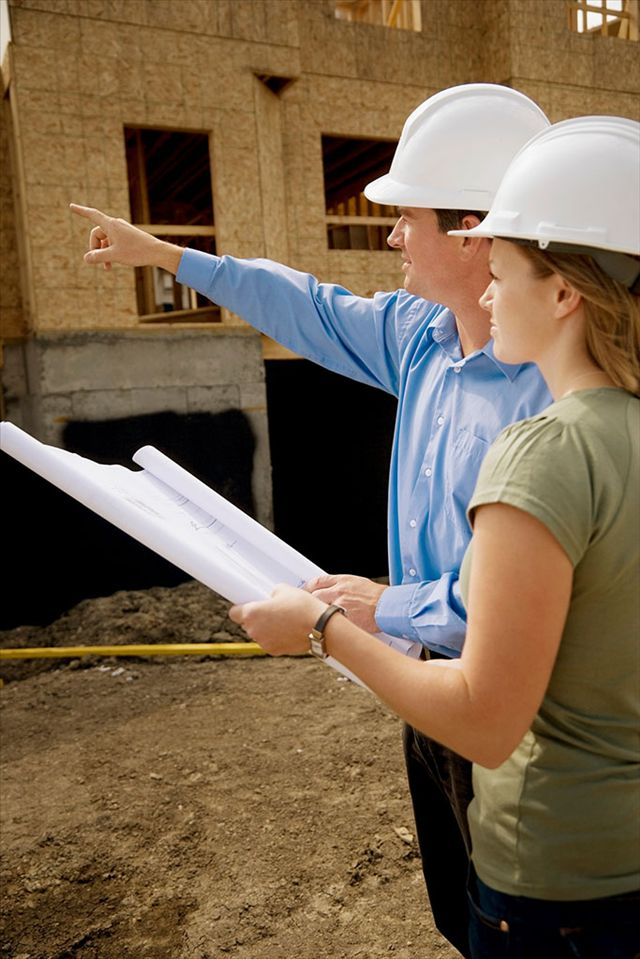hard-hat: (445, 114, 639, 286), (363, 82, 553, 212)
person: (67, 81, 560, 957), (235, 112, 640, 947)
